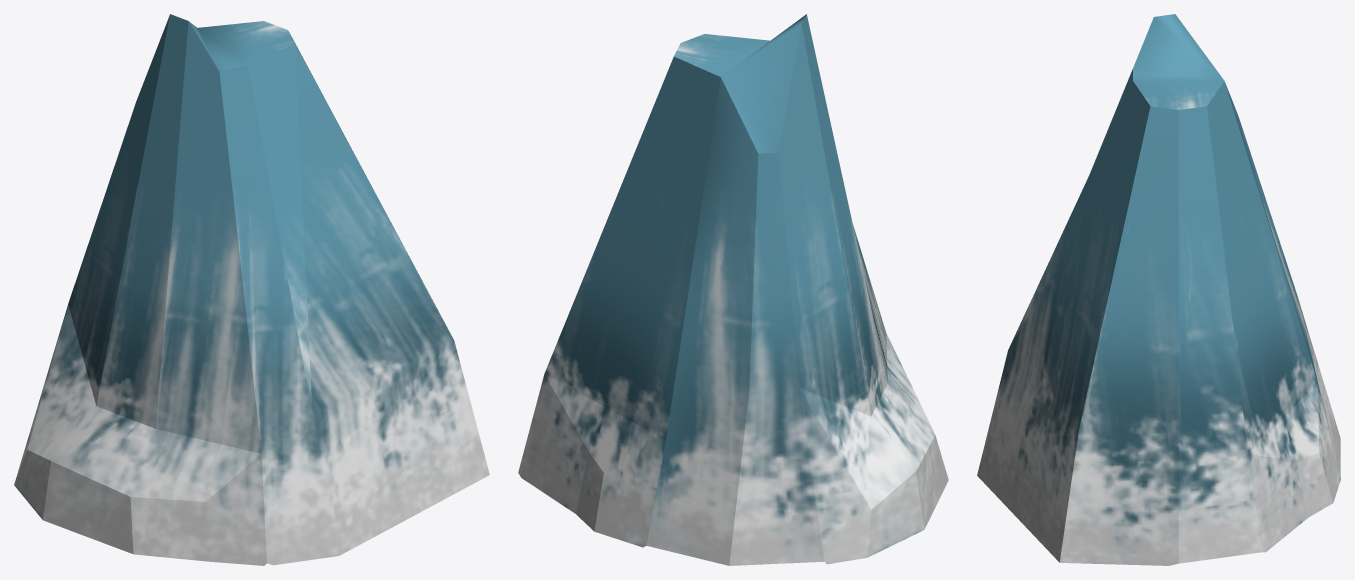
File: ms_iceShape04.fbx
3 renders of one model, left to right at view 1: azimuth 30°, elevation 25°; view 2: azimuth 150°, elevation 25°; view 3: azimuth 270°, elevation 25°, orthographic. The views are drawn at different scales.
Parts seen in each view (by area): view 1: polySurface6; view 2: polySurface6; view 3: polySurface6.
Boxes of the visible parts, <box> form: polySurface6: <box>14,14,489,565</box>; polySurface6: <box>518,14,948,565</box>; polySurface6: <box>977,14,1340,565</box>.
Size of the model in its own units: 265 by 311 by 236.
